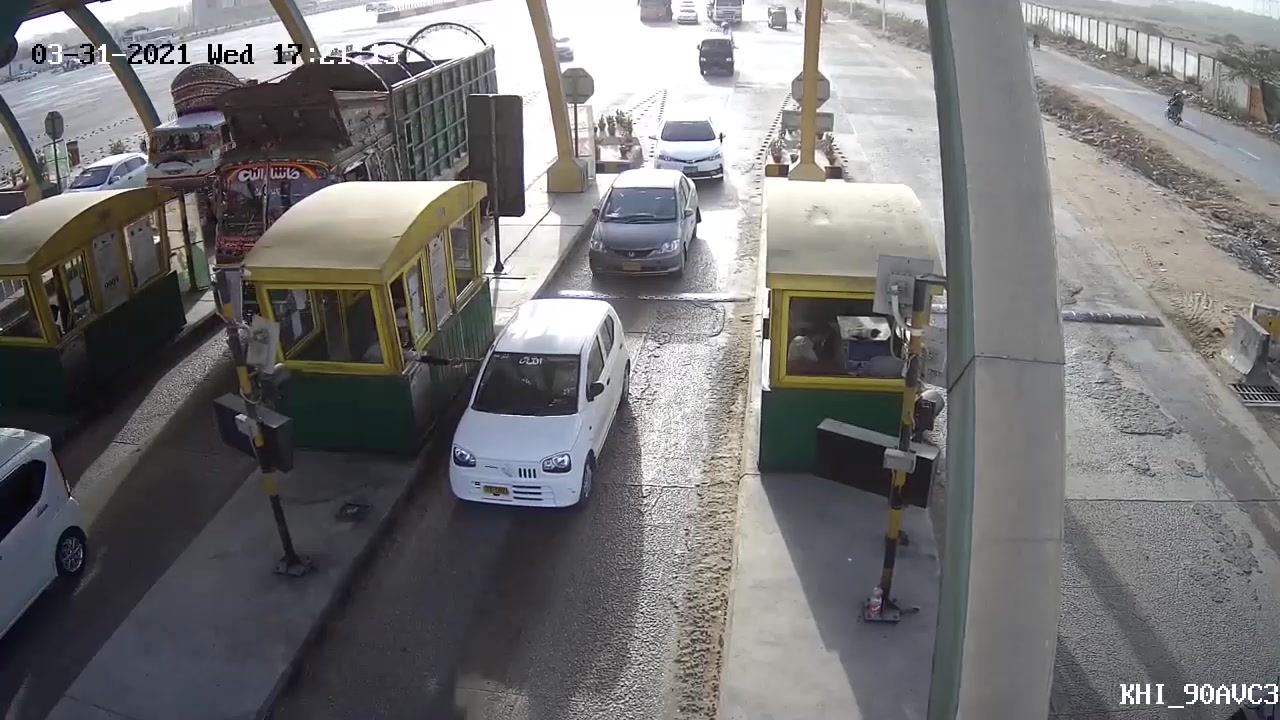F1: (446, 295, 639, 555), (589, 163, 702, 277)
